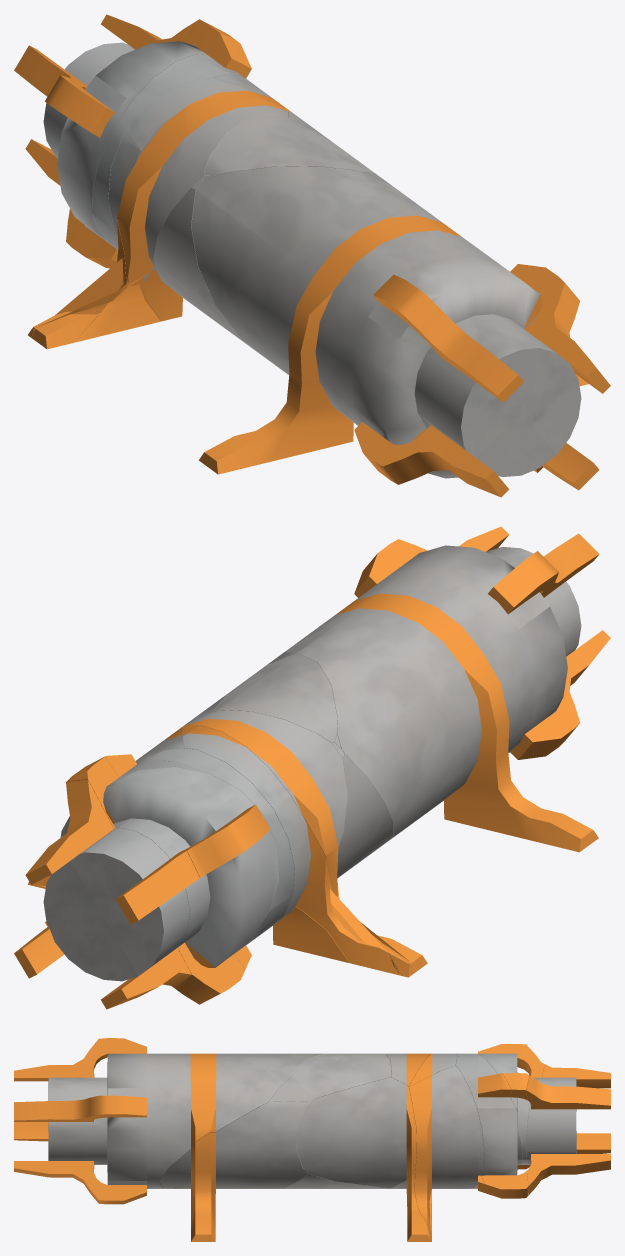
The model's file is Broke_Corridor_NEG.fbx.
The picture shows the model from 3 angles, top to bottom: view 1: azimuth 30°, elevation 25°; view 2: azimuth 150°, elevation 25°; view 3: azimuth 270°, elevation 25°; orthographic projection. The views are drawn at different scales.
Visible parts, largest first — view 1: corridor_NEG8, corridor_NEG7, corridor_NEG15, corridor_NEG9, corridor_NEG4, corridor_NEG11, corridor_NEG14, corridor_NEG13, corridor_NEG5; view 2: corridor_NEG8, corridor_NEG14, corridor_NEG7, corridor_NEG15, corridor_NEG13, corridor_NEG4, corridor_NEG11, corridor_NEG9, corridor_NEG5, corridor_NEG12; view 3: corridor_NEG8, corridor_NEG6, corridor_NEG10, corridor_NEG14, corridor_NEG12, corridor_NEG11, corridor_NEG4, corridor_NEG7, corridor_NEG15, corridor_NEG13, corridor_NEG16, corridor_NEG2.
Boxes of the visible parts, bbox=[...] form: corridor_NEG8: bbox=[191, 166, 610, 497]; corridor_NEG7: bbox=[45, 19, 231, 267]; corridor_NEG15: bbox=[34, 96, 288, 330]; corridor_NEG9: bbox=[31, 188, 241, 349]; corridor_NEG4: bbox=[204, 114, 373, 175]; corridor_NEG11: bbox=[92, 32, 251, 268]; corridor_NEG14: bbox=[14, 14, 192, 185]; corridor_NEG13: bbox=[28, 78, 288, 338]; corridor_NEG5: bbox=[55, 229, 182, 321]; corridor_NEG8: bbox=[285, 526, 610, 852]; corridor_NEG14: bbox=[14, 779, 199, 1009]; corridor_NEG7: bbox=[67, 757, 278, 1004]; corridor_NEG15: bbox=[184, 710, 411, 965]; corridor_NEG13: bbox=[183, 725, 411, 977]; corridor_NEG4: bbox=[213, 653, 337, 742]; corridor_NEG11: bbox=[45, 748, 294, 969]; corridor_NEG9: bbox=[337, 754, 427, 974]; corridor_NEG5: bbox=[267, 879, 400, 974]; corridor_NEG12: bbox=[28, 727, 184, 888]; corridor_NEG8: bbox=[14, 1038, 323, 1204]; corridor_NEG6: bbox=[296, 1077, 430, 1241]; corridor_NEG10: bbox=[160, 1101, 312, 1241]; corridor_NEG14: bbox=[526, 1064, 610, 1194]; corridor_NEG12: bbox=[409, 1066, 484, 1241]; corridor_NEG11: bbox=[455, 1053, 528, 1198]; corridor_NEG4: bbox=[293, 1053, 391, 1097]; corridor_NEG7: bbox=[478, 1044, 544, 1169]; corridor_NEG15: bbox=[384, 1053, 431, 1086]; corridor_NEG13: bbox=[409, 1053, 457, 1086]; corridor_NEG16: bbox=[277, 1173, 392, 1188]; corridor_NEG2: bbox=[269, 1074, 317, 1101].
Size of the model in its own units: 27.84 by 14.52 by 59.79.
